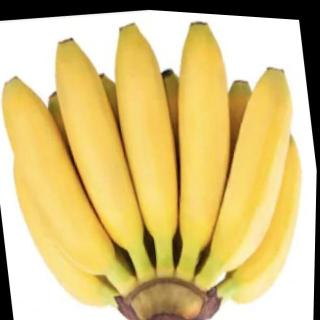banana: (186, 55, 316, 274), (0, 64, 124, 286), (45, 27, 153, 254), (150, 13, 253, 251), (103, 14, 193, 244)
